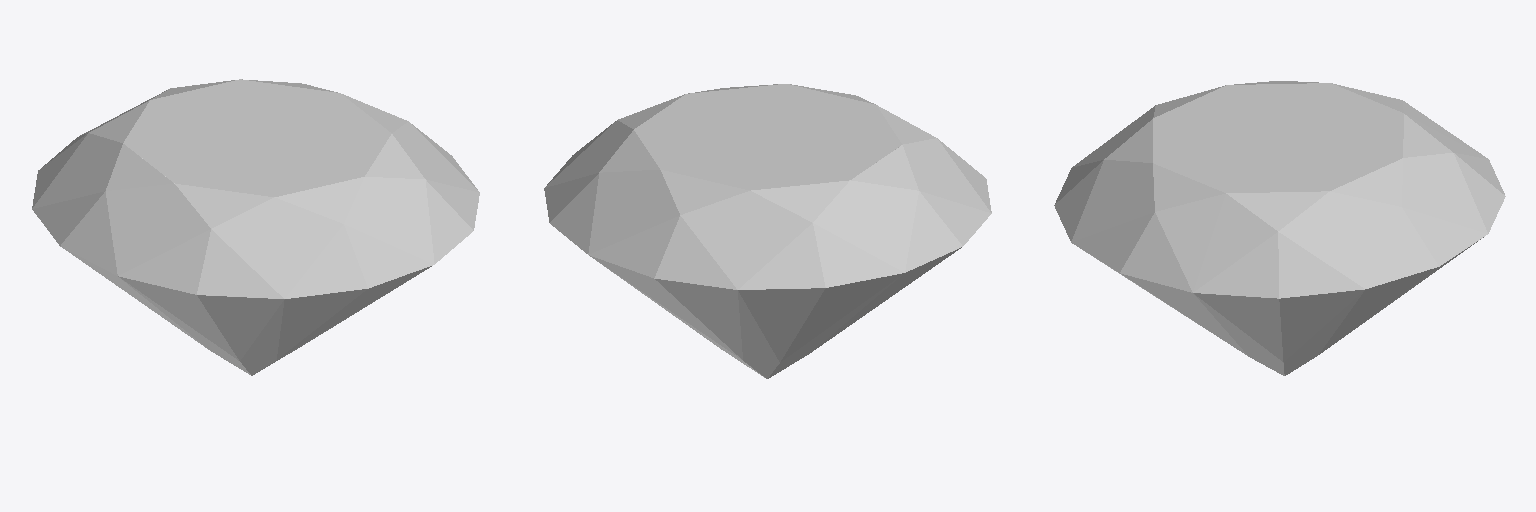
Rendered from diamond2.obj.
3 views of the same model, side by side, from view 1: azimuth 30°, elevation 25°; view 2: azimuth 150°, elevation 25°; view 3: azimuth 270°, elevation 25° (orthographic).
Parts seen in each view (by area): view 1: diamond2; view 2: diamond2; view 3: diamond2.
Boxes of the visible parts, x1=… form: diamond2: x1=32, y1=79, x2=479, y2=375; diamond2: x1=544, y1=84, x2=991, y2=378; diamond2: x1=1054, y1=81, x2=1505, y2=375.
Size of the model in its own units: 10.19 by 6.04 by 10.19.